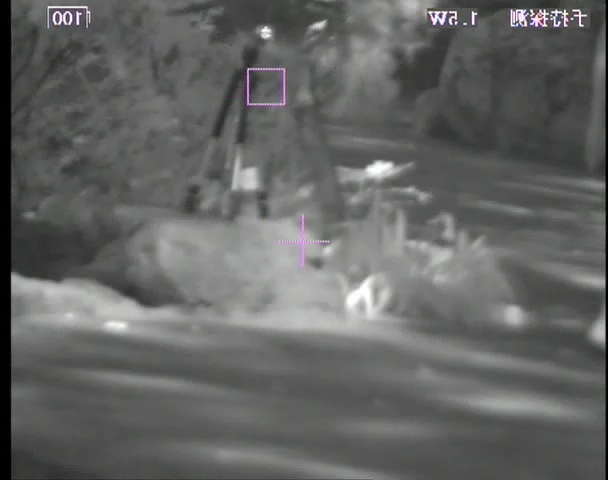my: (260, 26, 271, 39)
